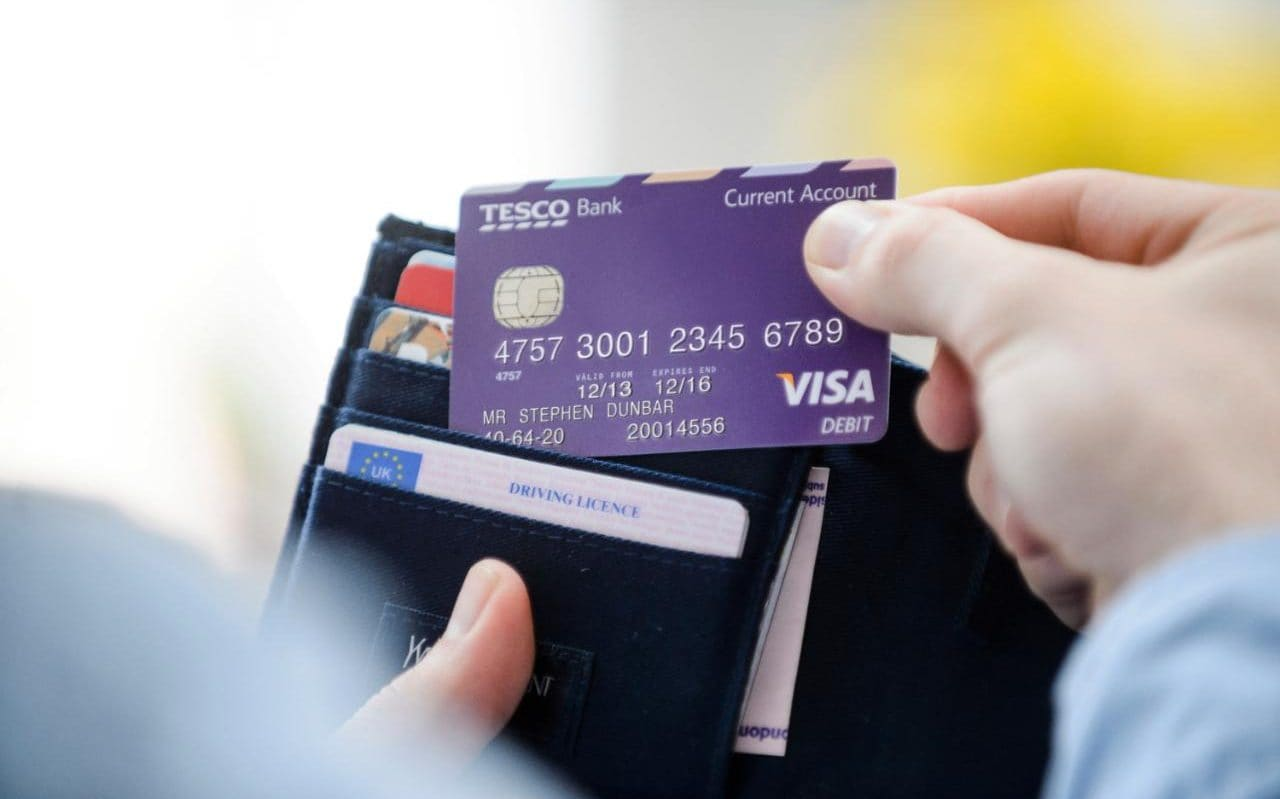tarjeta: (445, 156, 900, 460)
